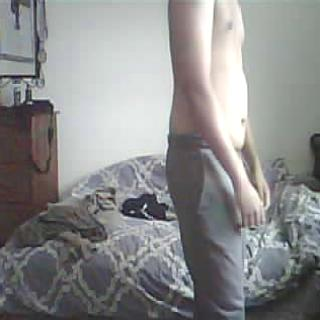Gray Sweatpants: (162, 137, 254, 320)
